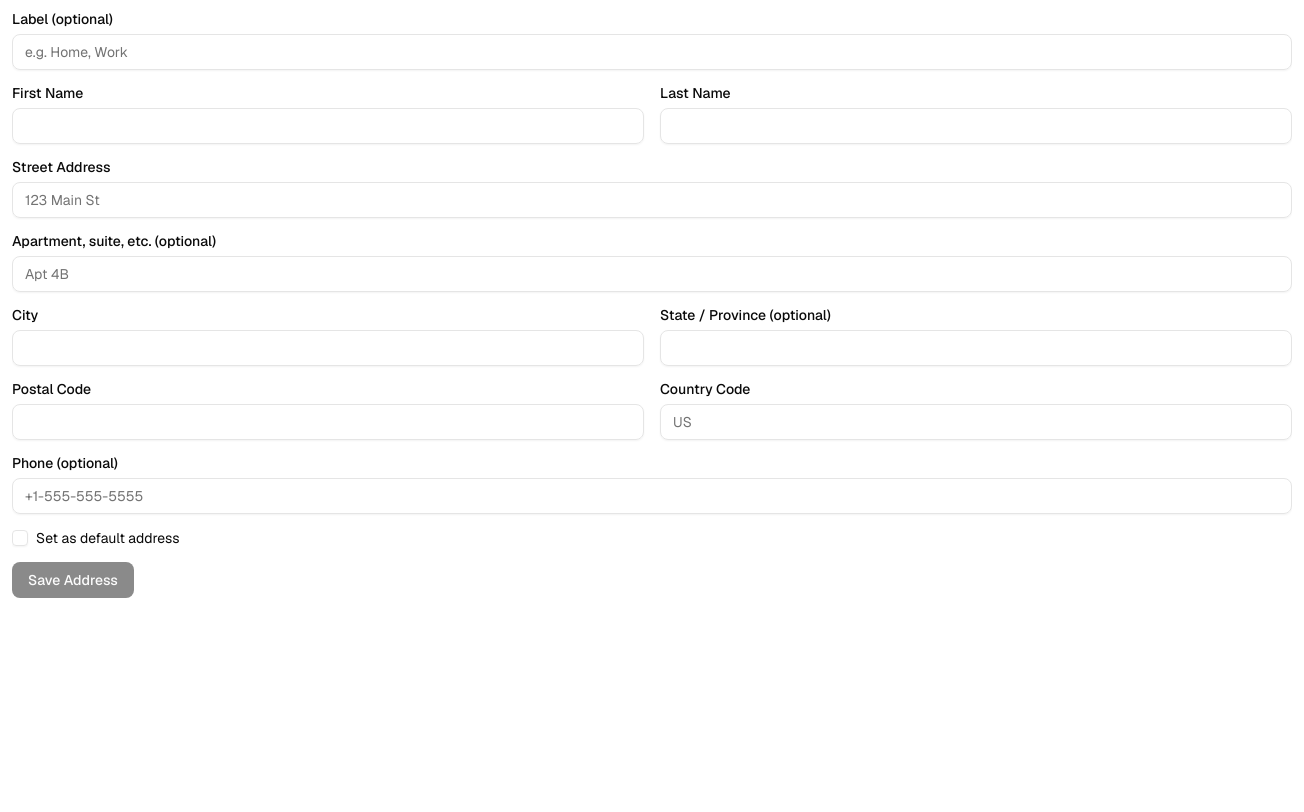
Test case: AddressForm › validation › should show error for firstName on blur when empty
Click the field labelled "First Name": (328, 126) [12,108,644,144]
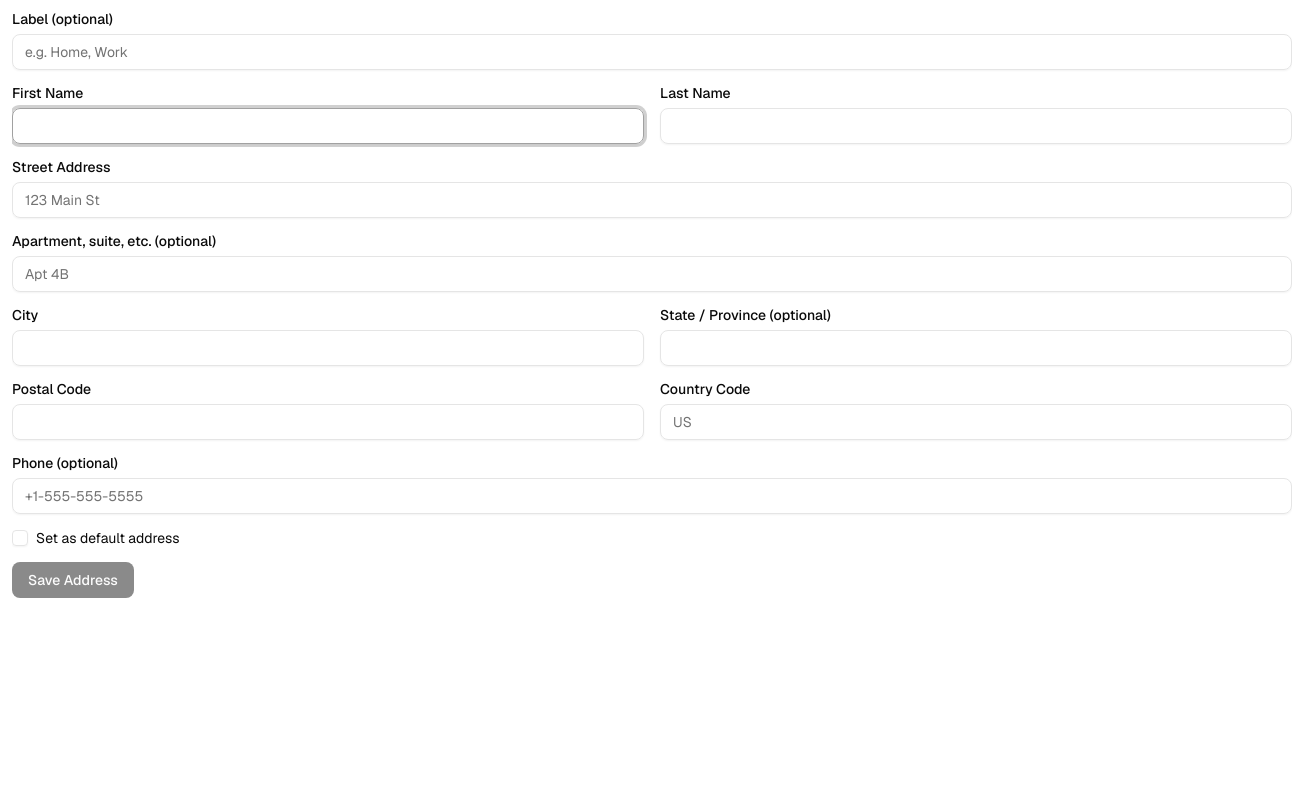
Press Tab
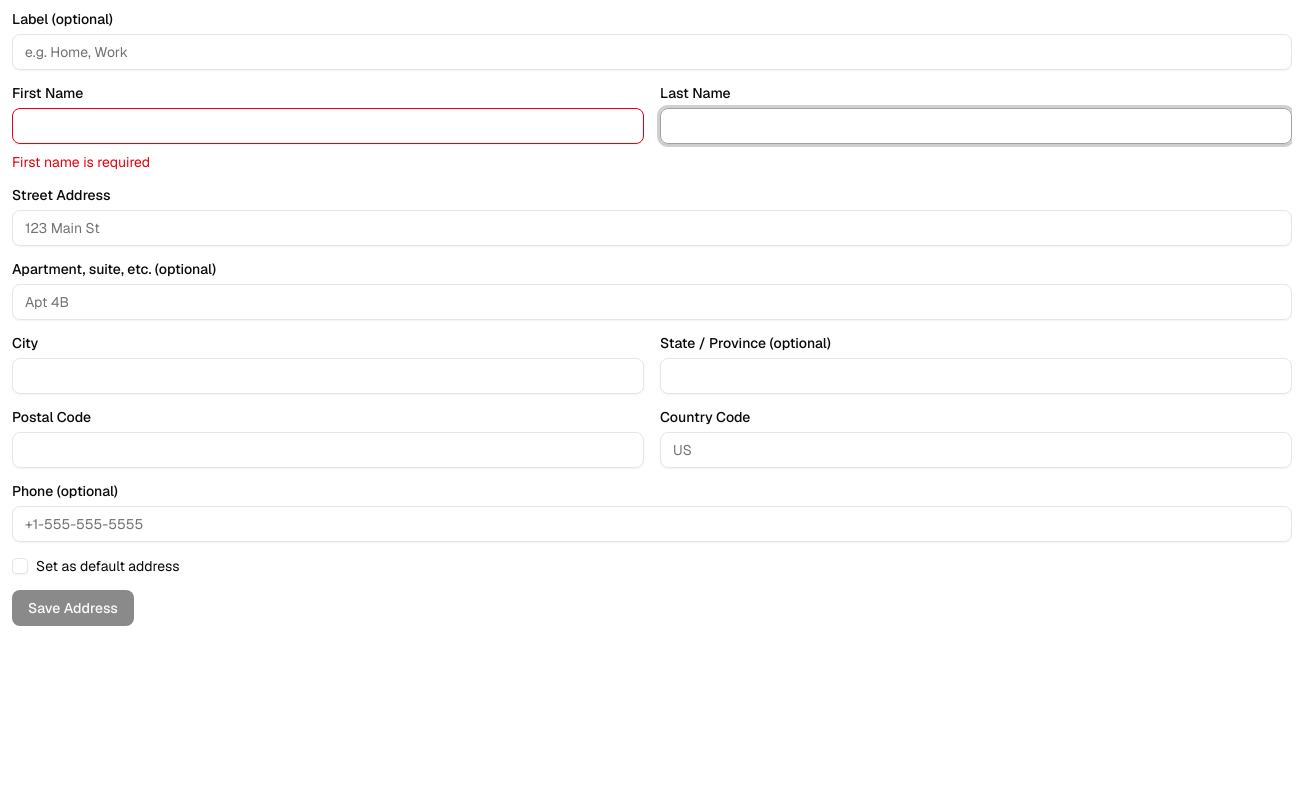
Result: the text "First name is required" is shown at [12,153,150,171]
